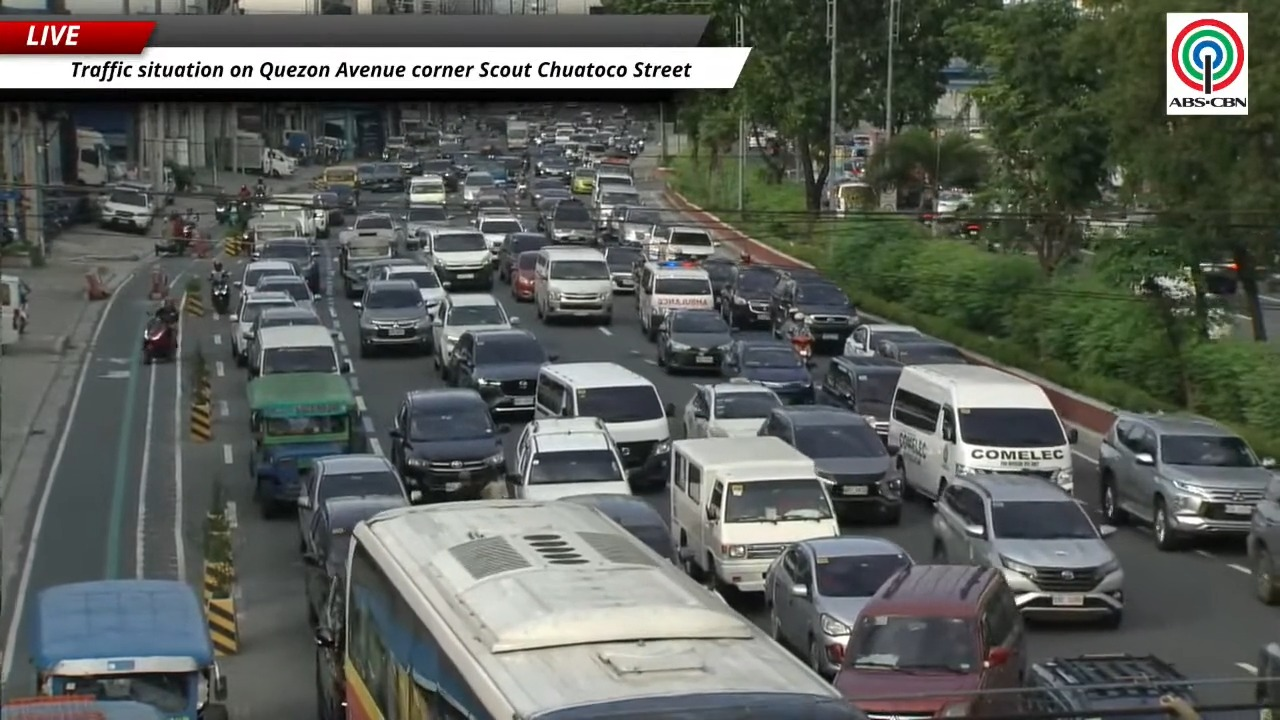bus: (343, 500, 864, 719)
car: (834, 564, 1028, 718), (931, 473, 1124, 626), (1098, 413, 1274, 550), (764, 536, 911, 677), (758, 405, 902, 523), (303, 494, 409, 627), (390, 388, 508, 501), (1025, 653, 1200, 719), (297, 453, 409, 552), (446, 328, 557, 415), (561, 493, 675, 562), (818, 355, 902, 443), (433, 293, 517, 376), (770, 273, 858, 352), (353, 279, 430, 357), (683, 378, 781, 438), (722, 340, 814, 403), (228, 292, 296, 366), (656, 309, 732, 373), (1245, 473, 1279, 604), (425, 227, 492, 291), (246, 305, 323, 357), (718, 264, 778, 328), (254, 237, 321, 294), (377, 264, 446, 314), (877, 336, 969, 365), (476, 212, 524, 267), (843, 323, 923, 356), (498, 230, 547, 282), (315, 643, 346, 719), (351, 205, 405, 247), (545, 199, 595, 244), (234, 260, 297, 295), (404, 205, 449, 252), (603, 245, 643, 294), (701, 255, 736, 307), (255, 275, 314, 304), (510, 250, 539, 302), (421, 156, 458, 192), (359, 163, 404, 192), (536, 195, 570, 233), (366, 257, 419, 281), (525, 176, 565, 206), (462, 172, 495, 208), (532, 186, 573, 210), (535, 154, 571, 180), (571, 167, 595, 194)
motorcycle: (780, 311, 813, 363), (142, 317, 176, 364), (154, 237, 190, 256), (210, 278, 229, 314), (215, 199, 232, 224)
truck: (218, 131, 296, 177), (75, 127, 111, 186), (282, 129, 313, 163), (506, 120, 529, 149)
